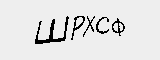И: (99, 15, 122, 33)
М: (12, 18, 37, 34)
О: (123, 15, 147, 32)
Т: (82, 16, 100, 34)
Ю: (40, 18, 67, 35)
Қ: (66, 20, 84, 39)
